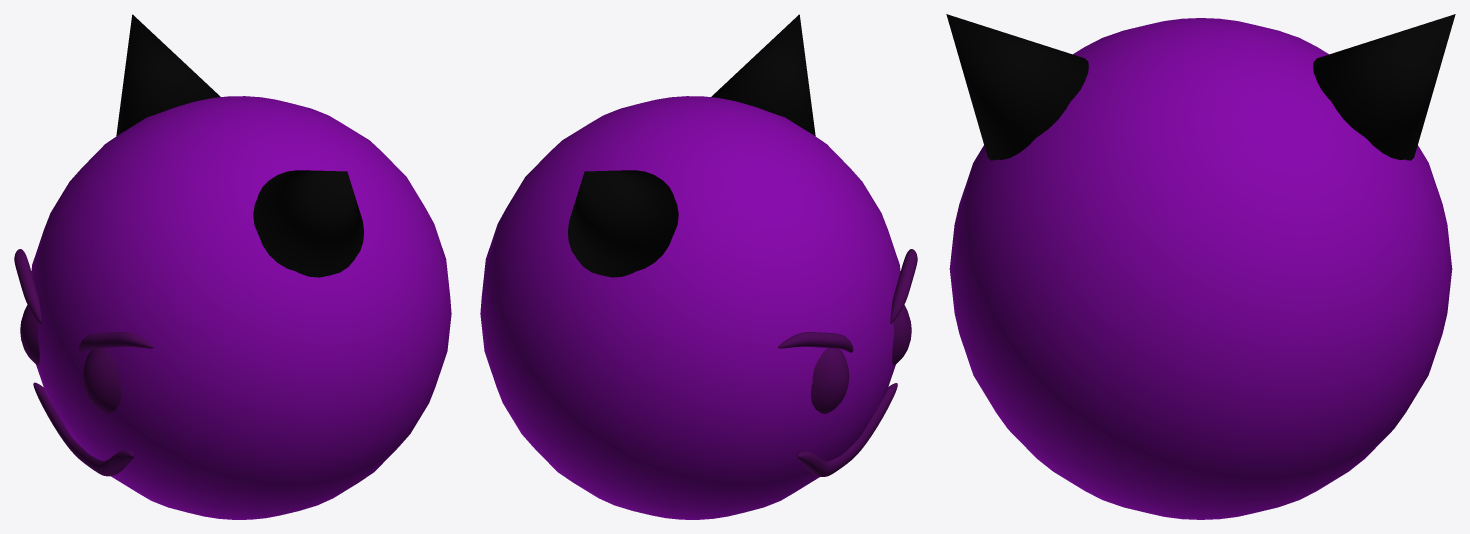
The model's file is horn_emoji.glb.
3 views of the same model, side by side, from view 1: azimuth 30°, elevation 25°; view 2: azimuth 150°, elevation 25°; view 3: azimuth 270°, elevation 25° (orthographic). The views are drawn at different scales.
Visible parts, largest first — view 1: kepala, tanduk, mata, Alis, Mulut; view 2: kepala, tanduk, mata, Alis, Mulut; view 3: kepala, tanduk.
Part boxes in pixels (<box>): kepala: <box>31,96,451,519</box>; tanduk: <box>116,14,363,277</box>; mata: <box>20,305,121,413</box>; Alis: <box>14,249,153,352</box>; Mulut: <box>33,382,134,476</box>; kepala: <box>480,96,900,519</box>; tanduk: <box>568,14,815,277</box>; mata: <box>810,305,911,413</box>; Alis: <box>778,249,917,352</box>; Mulut: <box>797,383,897,476</box>; kepala: <box>949,18,1452,519</box>; tanduk: <box>946,14,1455,160</box>.
Bounding box in the file's own units: 2.01 × 2.12 × 2.03.
